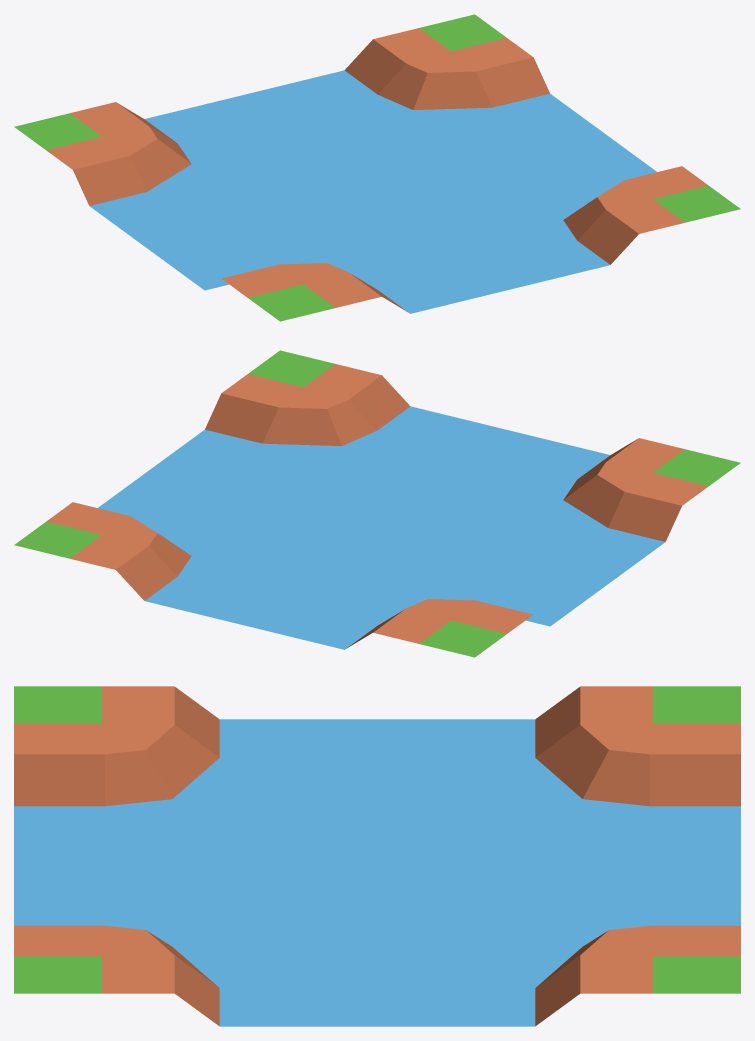
Rendered from ground_riverCross.glb.
The picture shows the model from 3 angles, top to bottom: view 1: azimuth 30°, elevation 25°; view 2: azimuth 150°, elevation 25°; view 3: azimuth 270°, elevation 25°; orthographic projection. The views are drawn at different scales.
Visible parts, largest first — view 1: ground_riverCross; view 2: ground_riverCross; view 3: ground_riverCross.
Part boxes in pixels (x1,y1,x2,y2): ground_riverCross: (14,14,740,321); ground_riverCross: (14,350,740,657); ground_riverCross: (14,686,740,1026).
Bounding box in the file's own units: 1 × 0.05 × 1.
